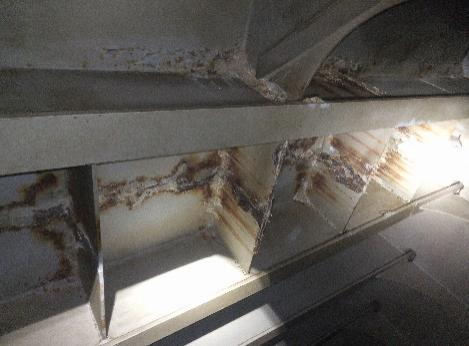corrosion: (2, 177, 79, 283), (102, 161, 222, 213), (213, 150, 264, 251), (306, 58, 387, 97), (321, 142, 376, 197), (278, 145, 317, 198), (379, 147, 414, 187)
